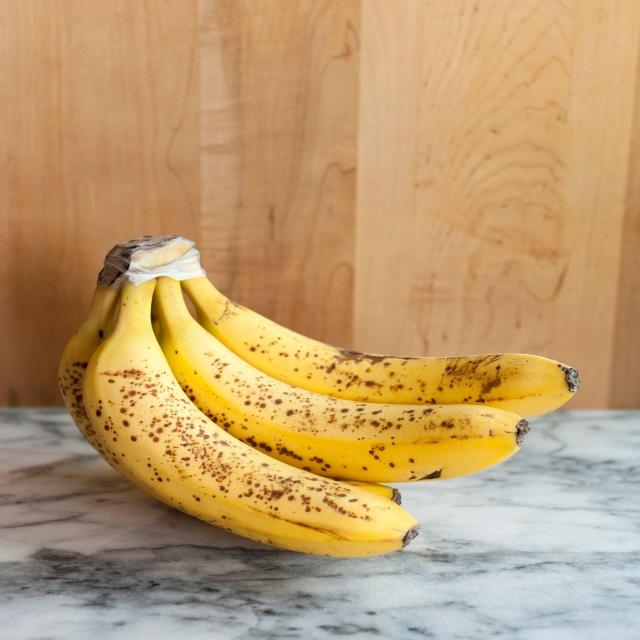banana: (44, 228, 588, 564)
